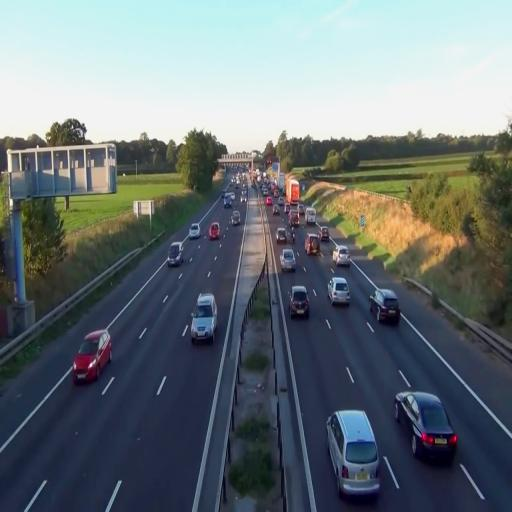vehicle: (326, 408, 380, 497), (394, 390, 458, 462), (72, 328, 112, 383), (191, 293, 218, 343), (369, 286, 401, 326), (327, 276, 351, 308), (290, 286, 310, 319), (285, 175, 301, 204), (167, 242, 183, 267), (281, 248, 297, 272), (332, 245, 351, 265), (335, 247, 351, 269), (305, 234, 320, 256), (330, 244, 342, 265), (209, 222, 220, 240), (189, 222, 201, 238), (224, 192, 234, 208), (232, 209, 240, 226)
